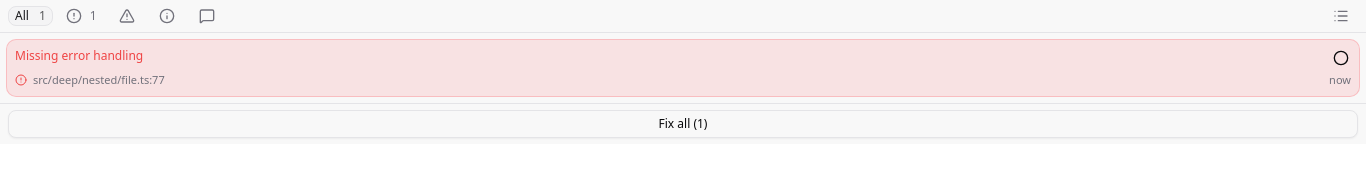
Test: ReviewPanel › comment rendering › shows file path in group header and line number in card
The width and height of the screenshot is (1366, 182).
Check: the text "Missing error handling" is shown, box [15,48,143,63]
# Toggle to grouped view
Click the button named "Group by file" at (1341, 16), box [1324,6,1358,26]
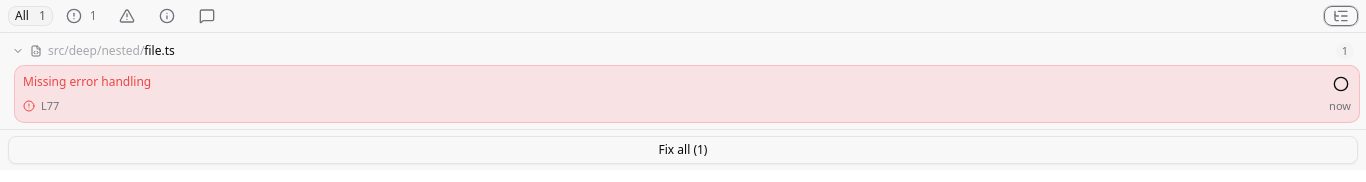
Check: the text "file.ts" is shown, box [144,43,175,59]
Check: the text "L77" is shown, box [41,98,59,114]
